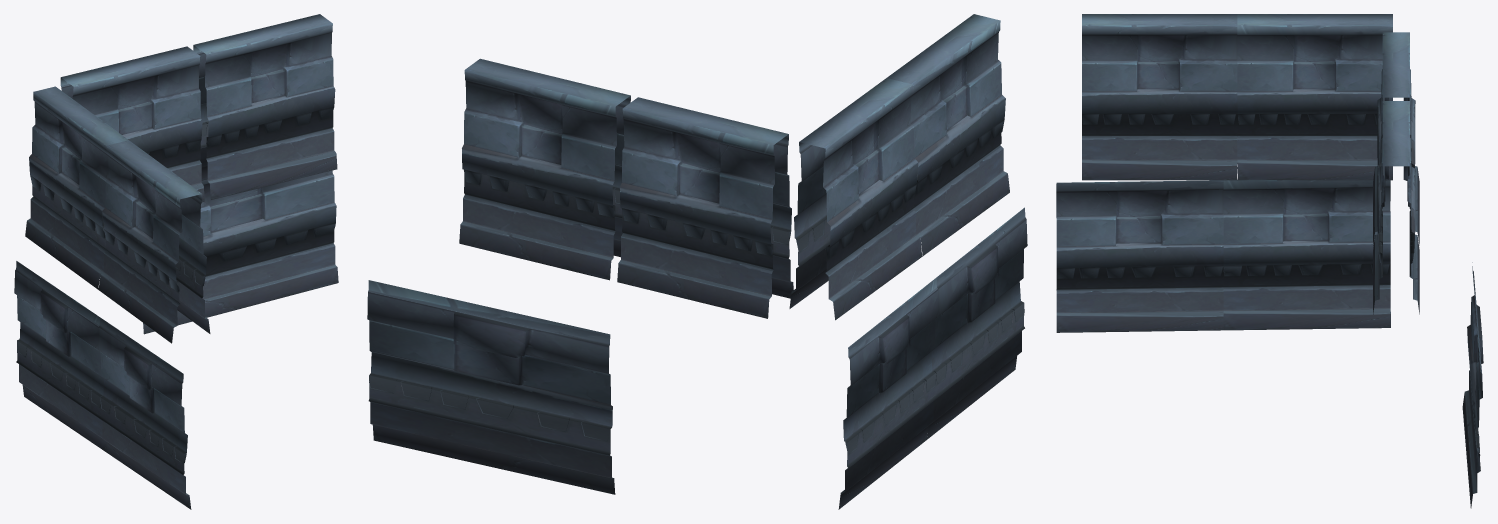
File: boss2_wujian.obj
The picture shows the model from 3 angles, left to right: view 1: azimuth 30°, elevation 25°; view 2: azimuth 150°, elevation 25°; view 3: azimuth 270°, elevation 25°; orthographic projection. The views are drawn at different scales.
Parts seen in each view (by area): view 1: Object005; view 2: Object005; view 3: Object005.
Part boxes in pixels (bbox=[...]): Object005: bbox=[14, 14, 338, 509]; Object005: bbox=[367, 14, 1027, 509]; Object005: bbox=[1056, 14, 1483, 508].
Size of the model in its own units: 25.84 by 20.49 by 24.85.
